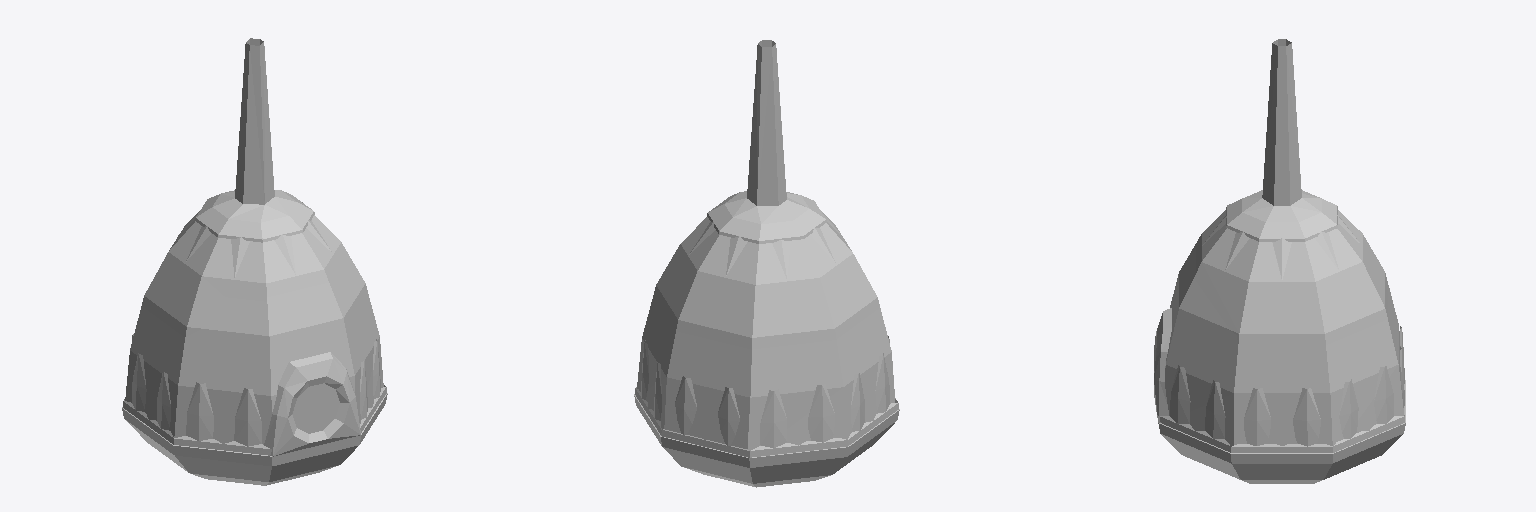
The model's file is stg600_obj_pot.obj.
3 renders of one model, left to right at view 1: azimuth 30°, elevation 25°; view 2: azimuth 150°, elevation 25°; view 3: azimuth 270°, elevation 25°, orthographic.
Visible parts, largest first — view 1: polygon4, polygon1, polygon3, polygon0, polygon2; view 2: polygon3, polygon4, polygon1, polygon0; view 3: polygon4, polygon3, polygon1, polygon0.
Part boxes in pixels (x1,y1,x2,y2): polygon4: (125,283,383,444); polygon1: (122,38,387,485); polygon3: (142,213,367,336); polygon0: (123,202,386,455); polygon2: (292,383,339,433); polygon3: (654,213,879,349); polygon4: (637,295,894,456); polygon1: (634,40,899,487); polygon0: (635,211,898,457); polygon4: (1165,244,1404,446); polygon3: (1194,210,1387,344); polygon1: (1154,39,1405,483); polygon0: (1160,215,1404,452).
Size of the model in its own units: 37.44 by 71.1 by 38.09.